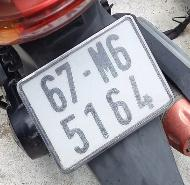1: (79, 98, 116, 144)
4: (123, 66, 163, 117)
5: (53, 109, 95, 159)
6: (35, 67, 71, 117), (100, 83, 137, 130), (102, 30, 137, 76)
7: (52, 60, 87, 108)
M: (82, 37, 122, 88)
